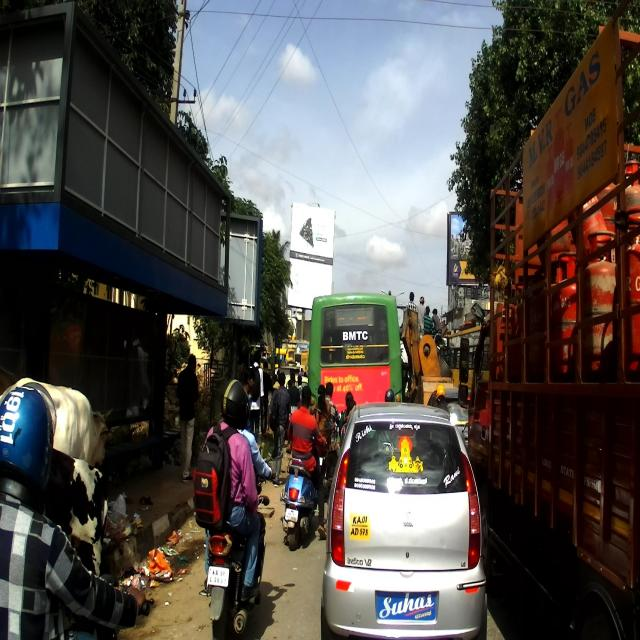Car_TATA: (322, 401, 490, 637)
bus: (307, 290, 405, 454)
motorcycle_Hero: (206, 472, 276, 635)
scooter: (280, 455, 325, 551)
truck: (457, 0, 639, 639)
